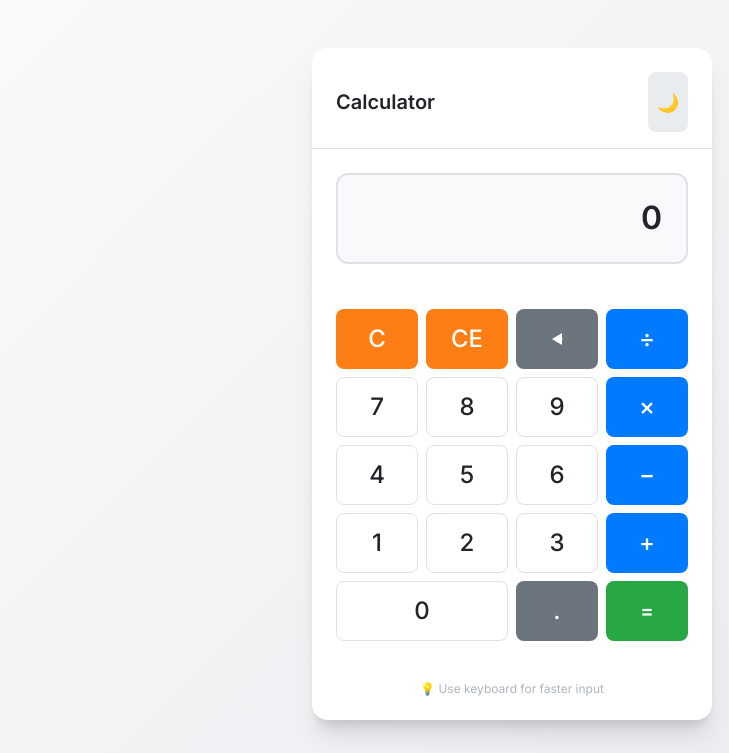
Test: Calculator Integration Tests › performs subtraction correctly
The width and height of the screenshot is (729, 753).
Click the button named "One": (377, 543) [336, 513, 418, 573]
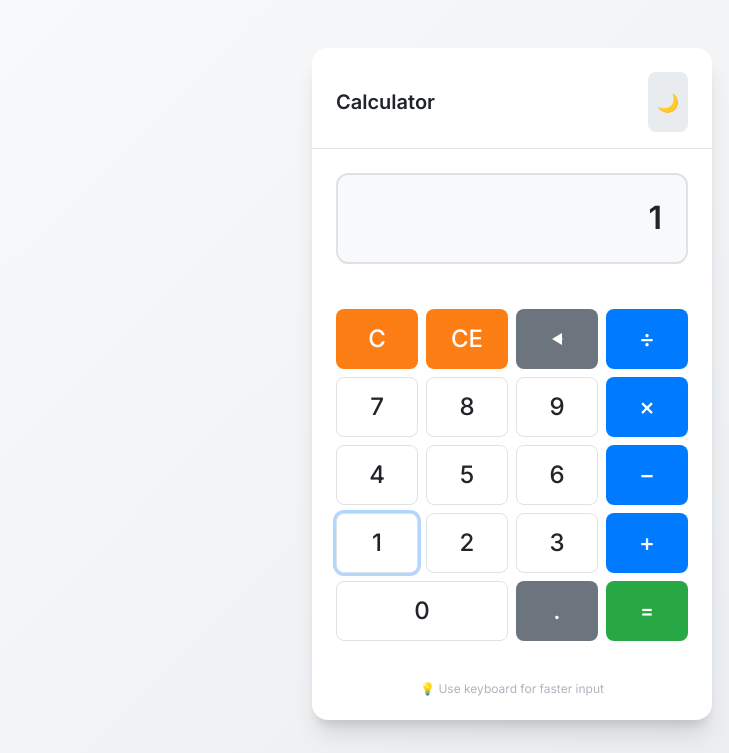
Click the button named "Zero": (422, 611) [336, 581, 508, 641]
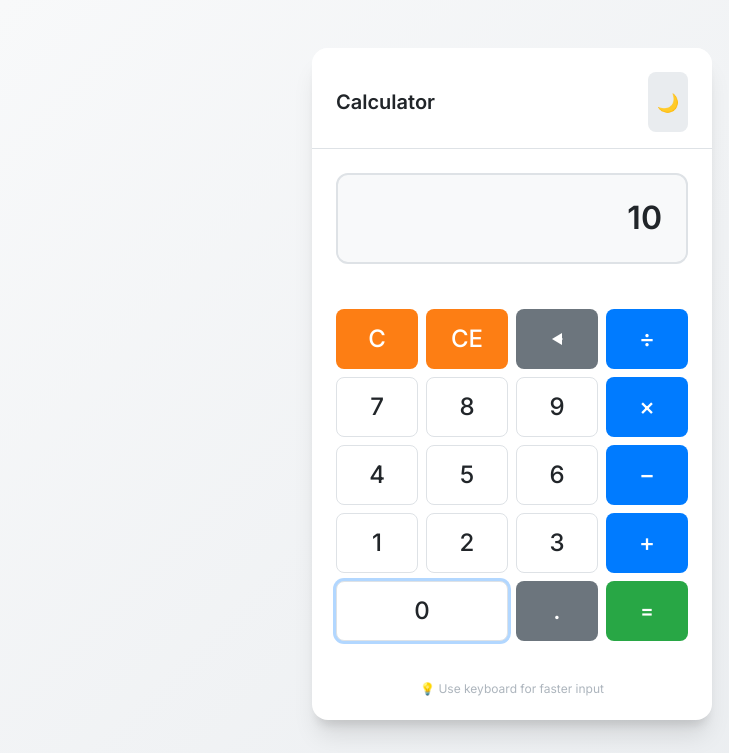
Click the button named "Subtract": (647, 475) [606, 445, 688, 505]
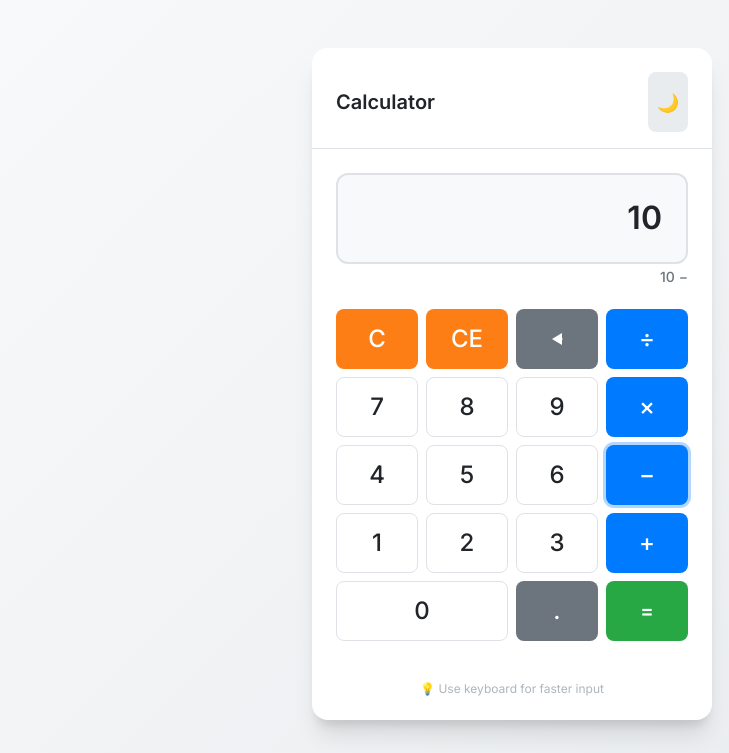
Click the button named "Four": (377, 475) [336, 445, 418, 505]
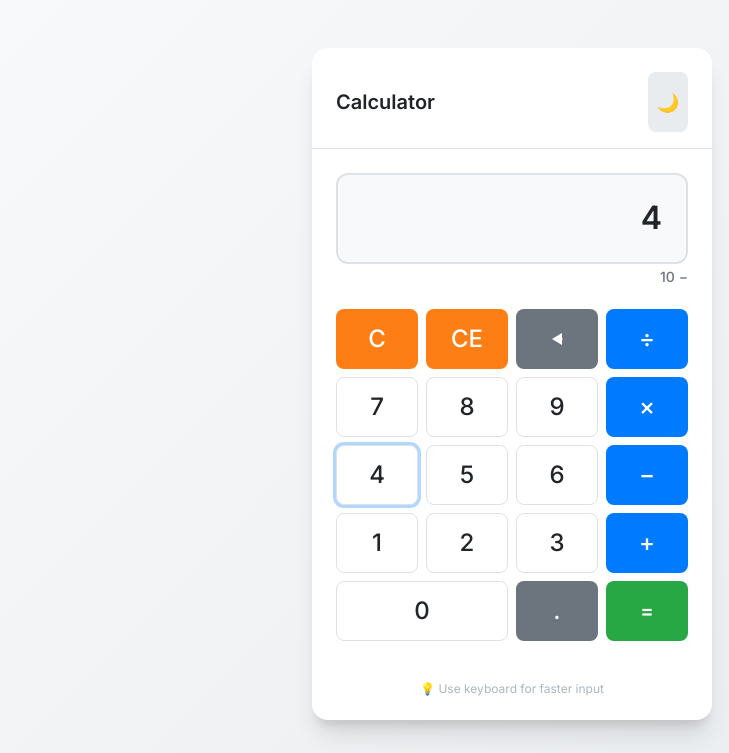
Click the button named "Equals": (647, 611) [606, 581, 688, 641]
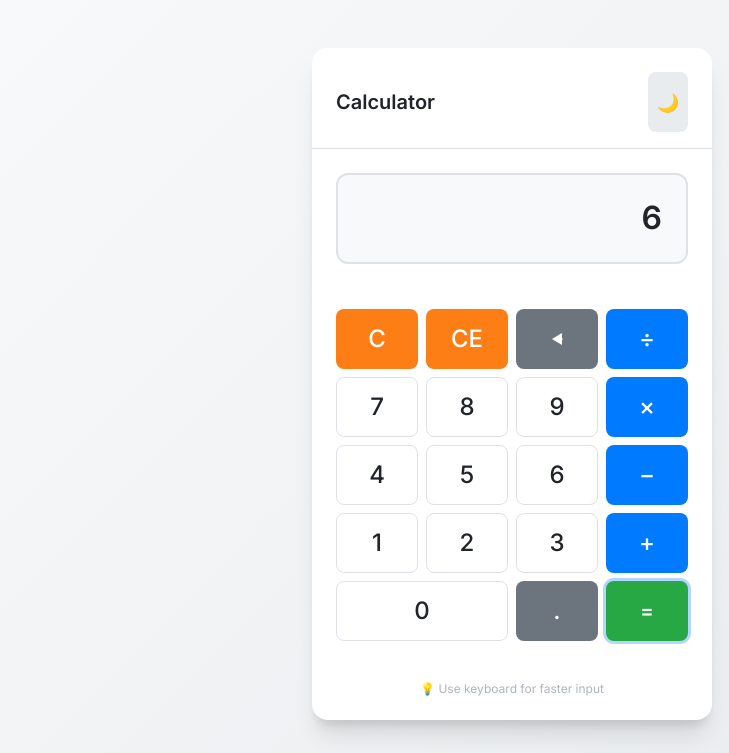
Result: the field reads "6" at [642, 198, 662, 237]
